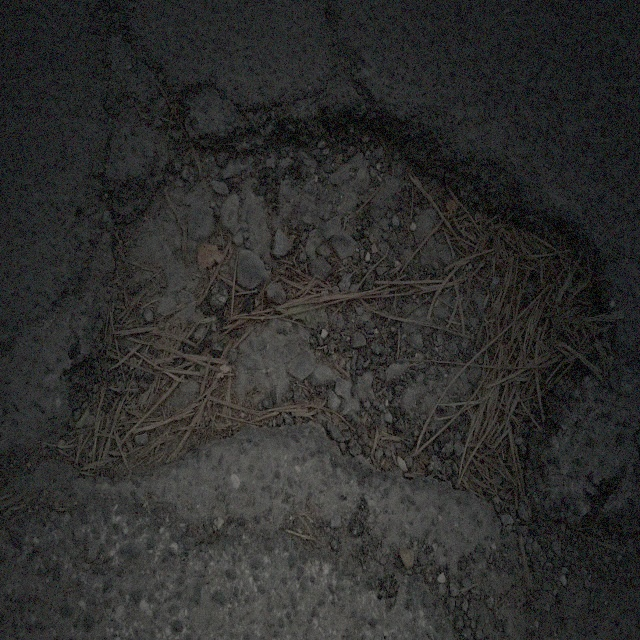pothole: (58, 87, 602, 558)
